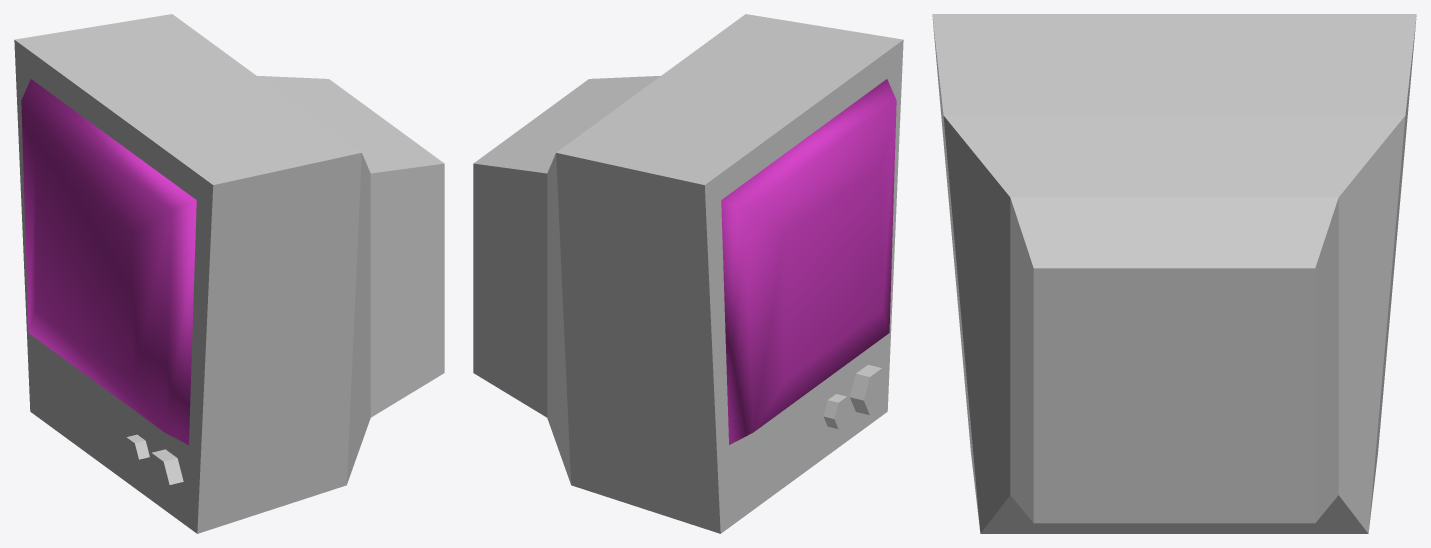
File: Monitor.fbx
The picture shows the model from 3 angles, left to right: view 1: azimuth 30°, elevation 25°; view 2: azimuth 150°, elevation 25°; view 3: azimuth 270°, elevation 25°; orthographic projection. The views are drawn at different scales.
Visible parts, largest first — view 1: Cube, Cube.001; view 2: Cube, Cube.001; view 3: Cube.
Part boxes in pixels (box(x1,y1,x2,y2)): Cube: box(14, 14, 444, 533); Cube.001: box(21, 79, 196, 499); Cube: box(473, 14, 903, 533); Cube.001: box(721, 79, 896, 444); Cube: box(932, 14, 1416, 533).
Bounding box in the file's own units: 2.6 × 2.95 × 2.95.
